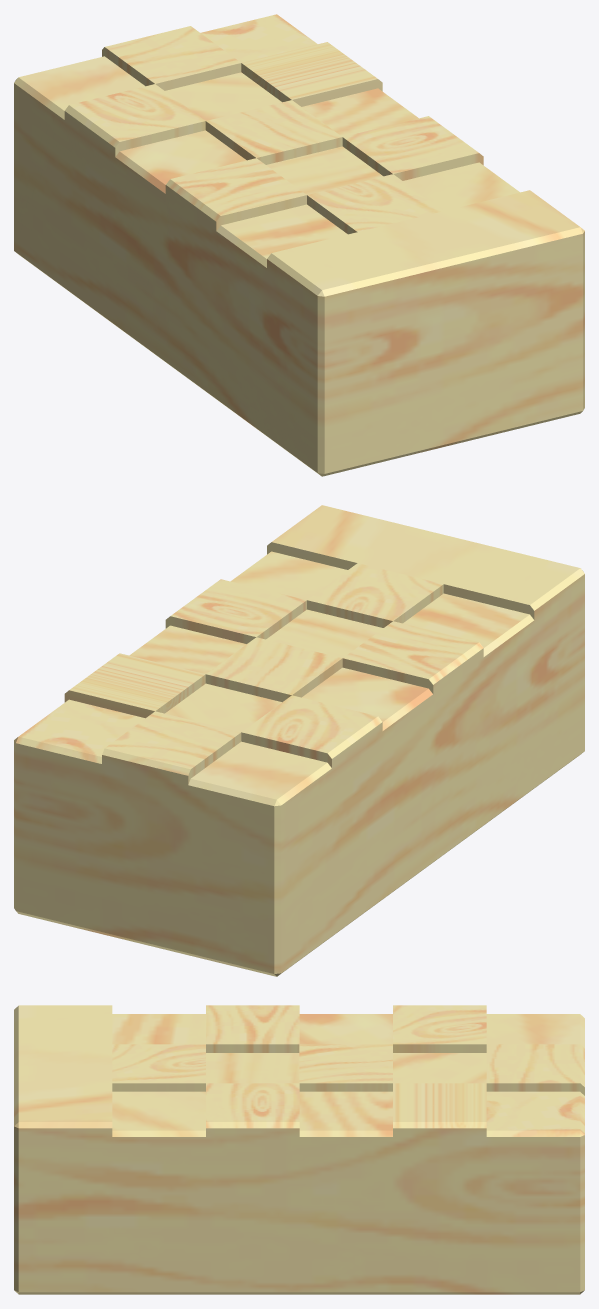
Rendered from kamaboko_bake.dae.
3 views of the same model, one above another, from view 1: azimuth 30°, elevation 25°; view 2: azimuth 150°, elevation 25°; view 3: azimuth 270°, elevation 25° (orthographic). The views are drawn at different scales.
Parts seen in each view (by area): view 1: m0; view 2: m0; view 3: m0.
Part boxes in pixels (x1,y1,x2,y2): m0: (14,14,584,476); m0: (14,505,584,976); m0: (14,1005,584,1294).
Bounding box in the file's own units: 600 × 400 × 1200.
2 materials, 2 textured.
